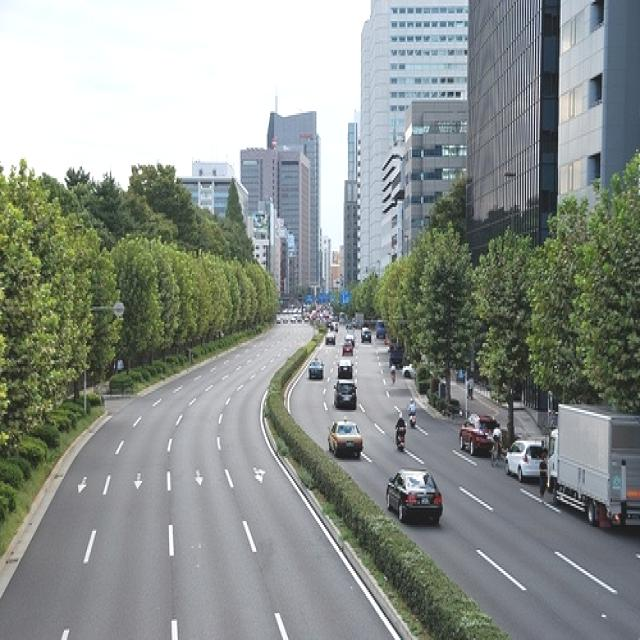Caminhao: (544, 399, 640, 533)
Carro Branco: (506, 435, 550, 484)
Carro Preto: (382, 466, 445, 528), (333, 378, 357, 410), (306, 358, 326, 382), (338, 360, 353, 376)
Carro Vermelho: (458, 409, 498, 459)
Taxi: (328, 416, 363, 456)
